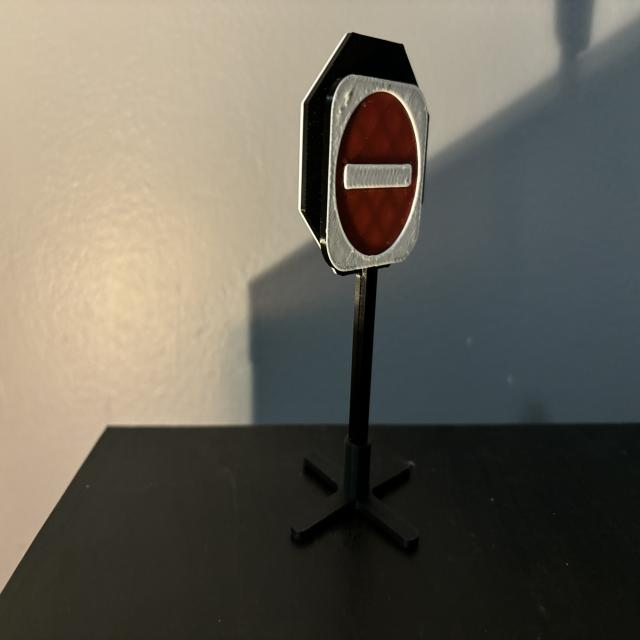sign_noentry: (328, 77, 429, 272)
